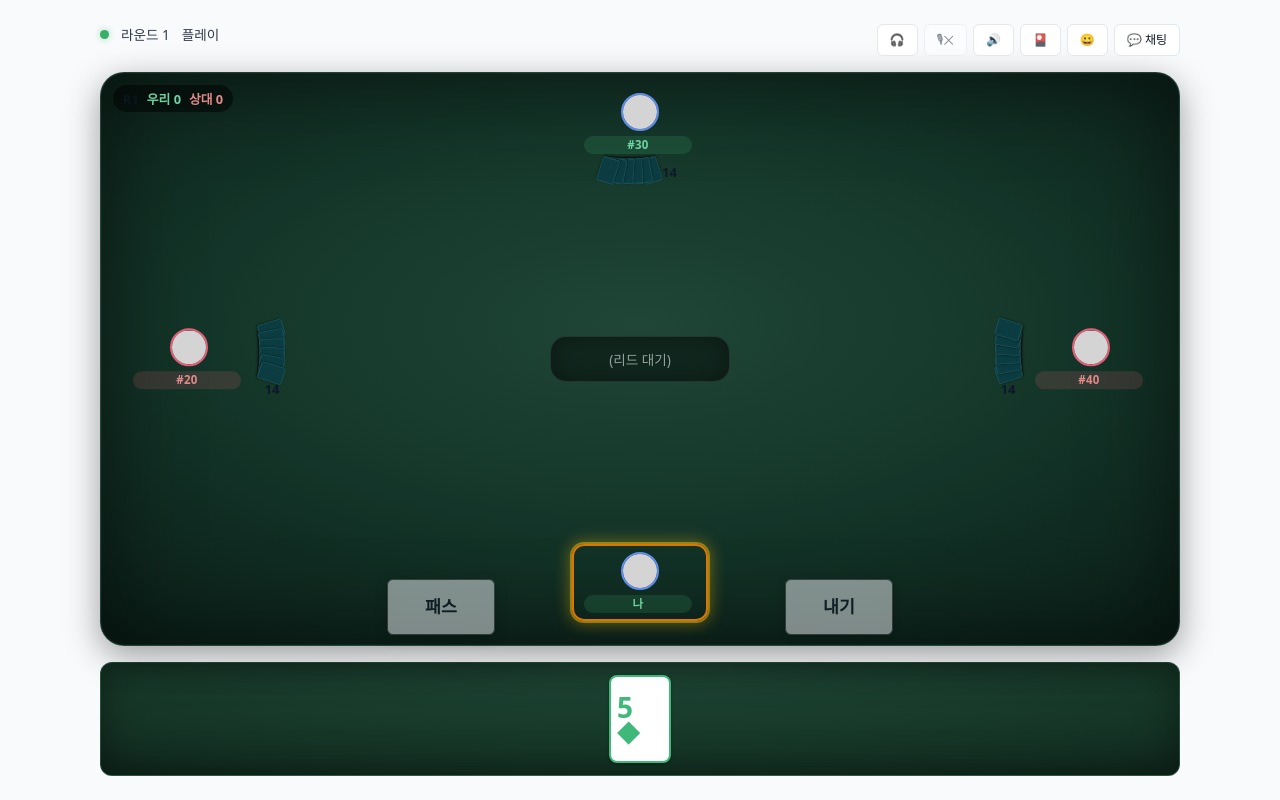
GameTable — 음성 대화 (D-156) › 🎧 로 참여하면 방에 알리고, 참여한 사람 좌석에 🎧
The image size is (1280, 800).
expect the button named "마이크" is disabled: met, box [924,24,967,56]
Step 1. Click the button named "음성 대화" → point(897, 40), box [877,24,918,56]
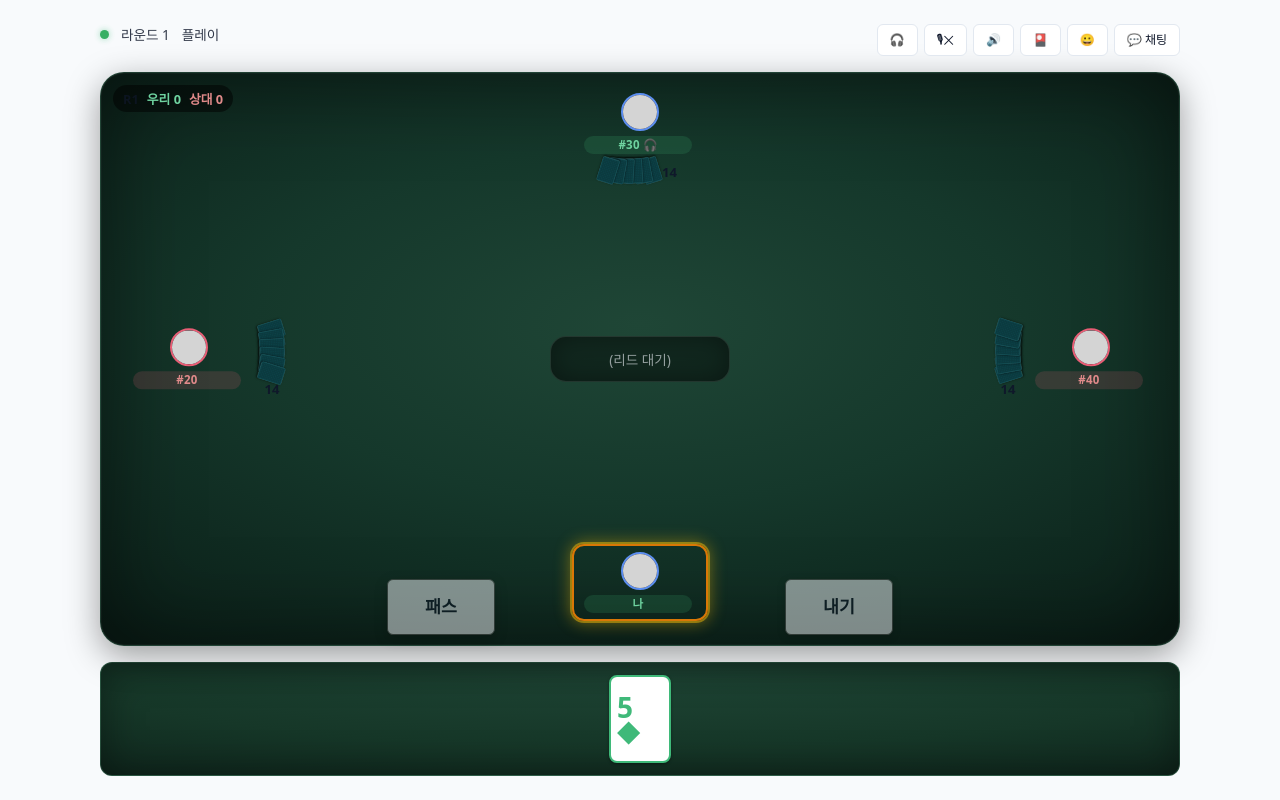
expect the number of elements with class "seat-voice" is 1: met, box [640,137,658,152]
expect the text with class "seat-voice" reads "🎧": met, box [640,137,658,152]
